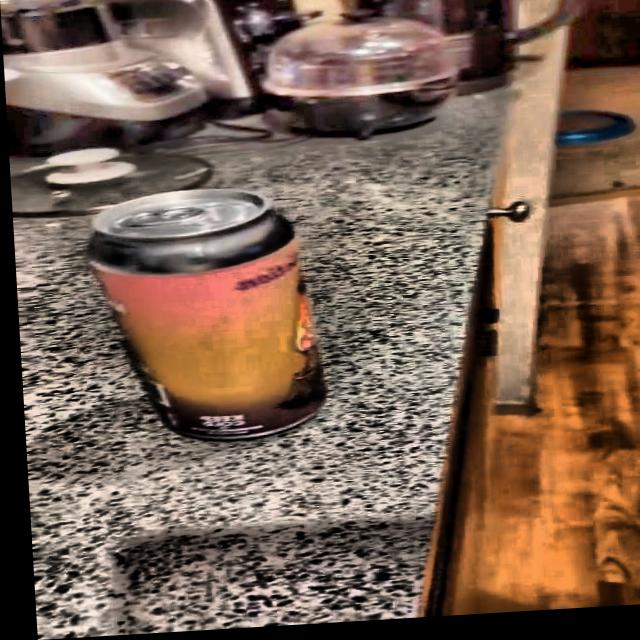can: (73, 177, 332, 462)
